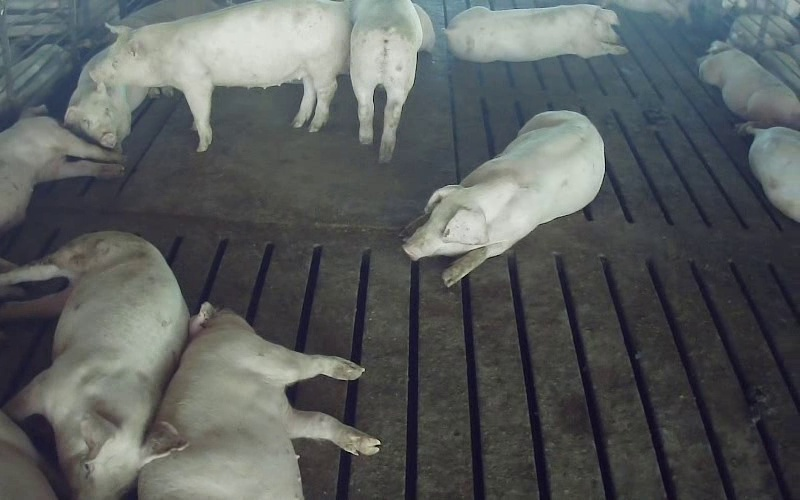pig: (0, 233, 187, 499), (138, 303, 379, 499), (404, 111, 604, 286), (0, 116, 123, 233), (350, 0, 422, 162), (445, 4, 627, 61), (64, 47, 148, 150), (698, 41, 799, 126)
